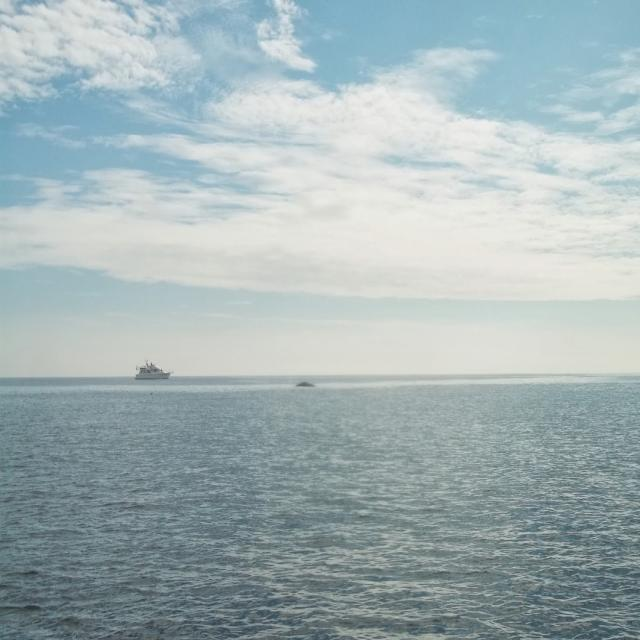houseboat: (132, 356, 174, 382)
